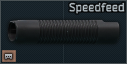M590A1 SpeedFeed short forestock: (0, 0, 127, 64)
